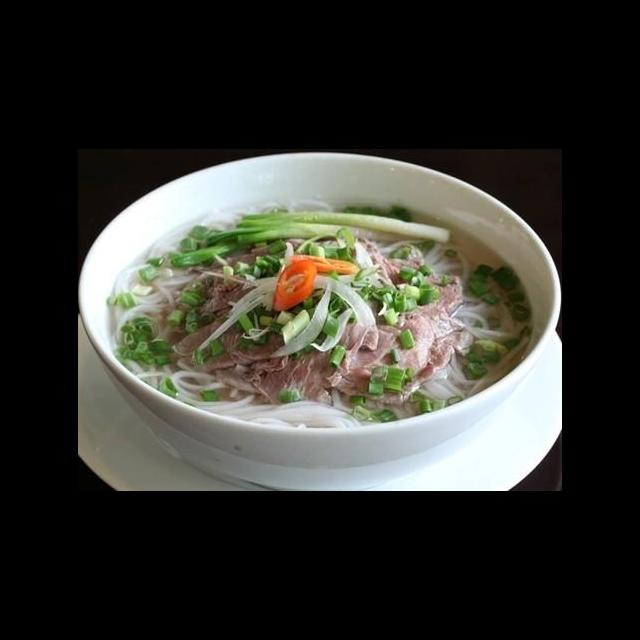banh pho: (112, 353, 260, 414), (103, 238, 196, 326), (191, 394, 366, 435), (414, 356, 486, 416), (454, 294, 528, 345), (422, 238, 476, 289)
pho bo: (79, 189, 562, 479)
thit bo: (322, 324, 475, 411), (169, 234, 312, 321), (166, 302, 313, 376), (208, 341, 356, 411), (371, 241, 467, 333)
